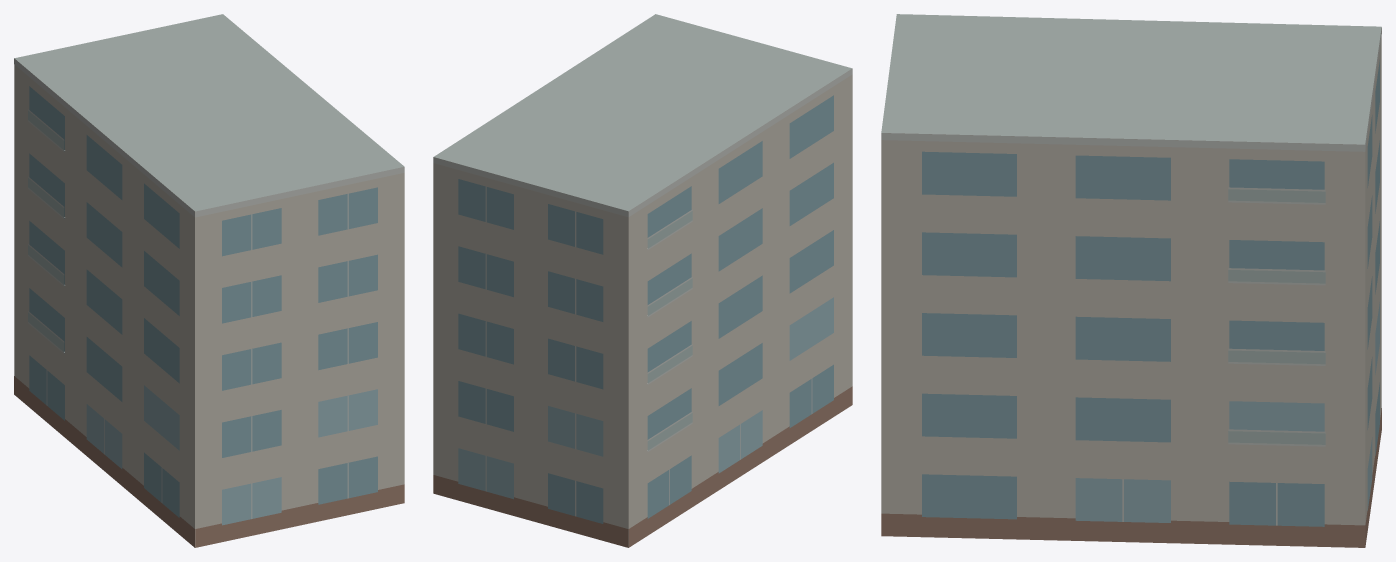
File: survey-upis-32897728.glb
3 views of the same model, side by side, from view 1: azimuth 30°, elevation 25°; view 2: azimuth 150°, elevation 25°; view 3: azimuth 270°, elevation 25° (orthographic). The views are drawn at different scales.
Parts seen in each view (by area): view 1: survey-upis-32897728.tmp; view 2: survey-upis-32897728.tmp; view 3: survey-upis-32897728.tmp.
Boxes of the visible parts, bbox=[...] form: survey-upis-32897728.tmp: bbox=[14, 14, 404, 547]; survey-upis-32897728.tmp: bbox=[433, 14, 852, 547]; survey-upis-32897728.tmp: bbox=[881, 14, 1381, 547].
Size of the model in its own units: 9.5 by 13.65 by 15.37.
